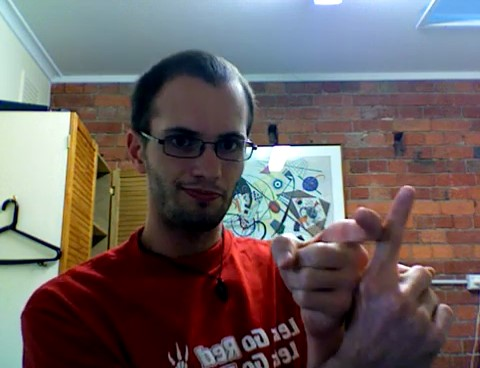K: (266, 180, 454, 365)
